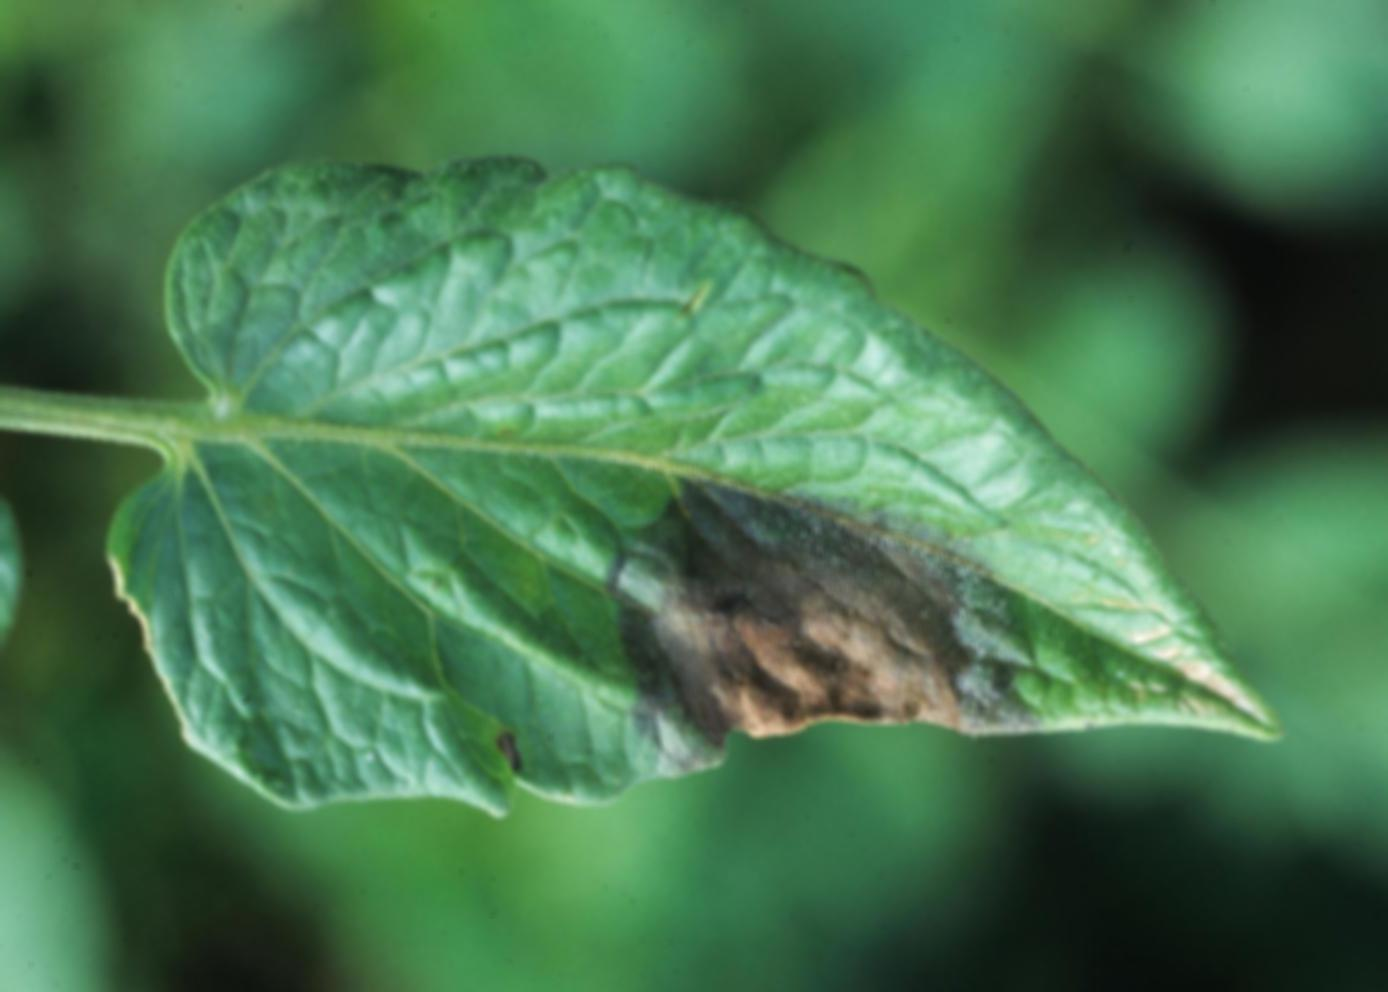Tomato leaf late blight: (84, 135, 1314, 861)
